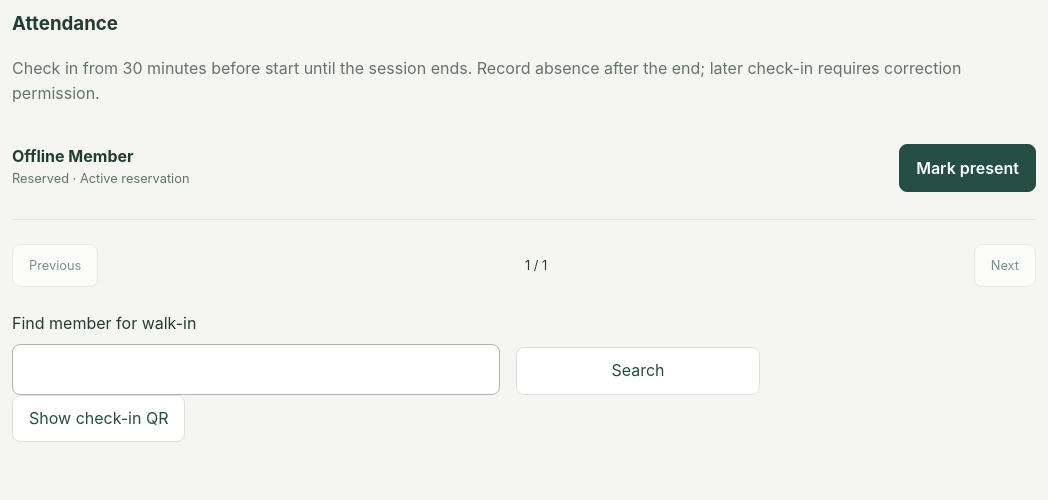
surfaces validation and conflict errors
What coordinates should you click on to do the following:
click the button "Mark present"
I would click on:
 (968, 168)
Its box is [899,144,1036,192].
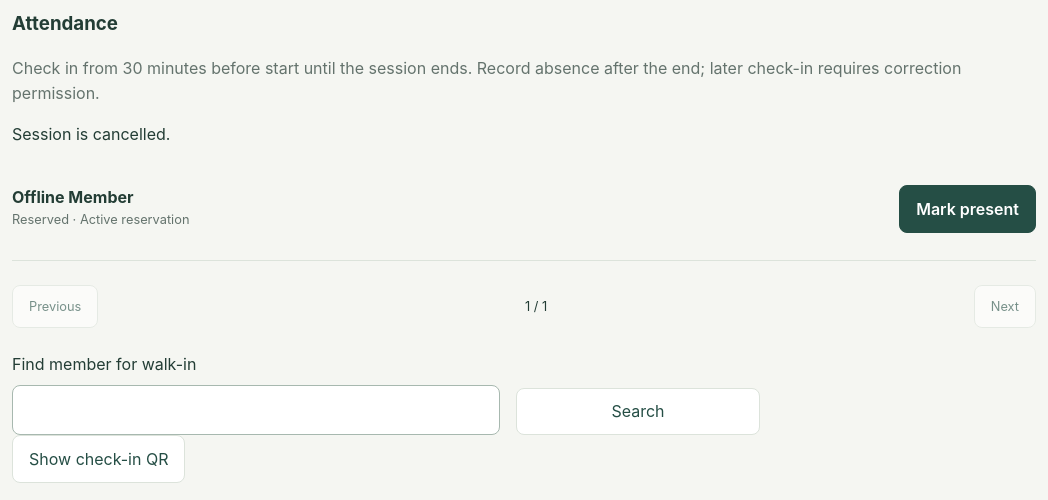
Expected: the message reads "Session is cancelled.", [12,124,170,144]
